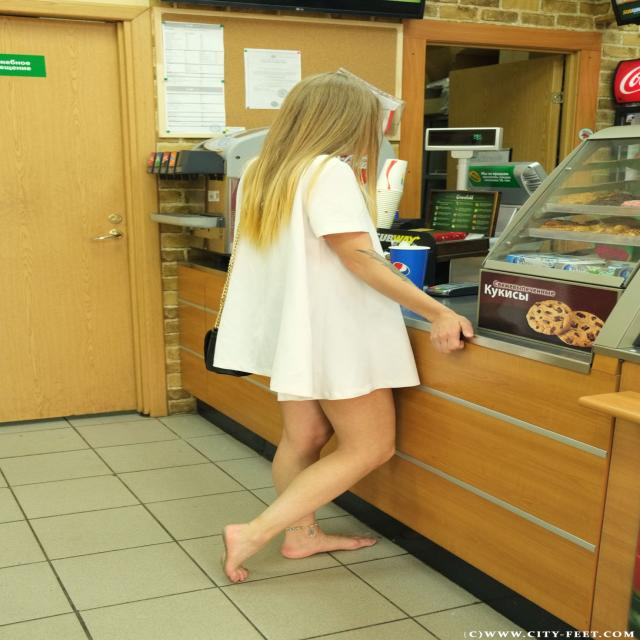Barefoots: (280, 534, 376, 559), (220, 524, 250, 582)
